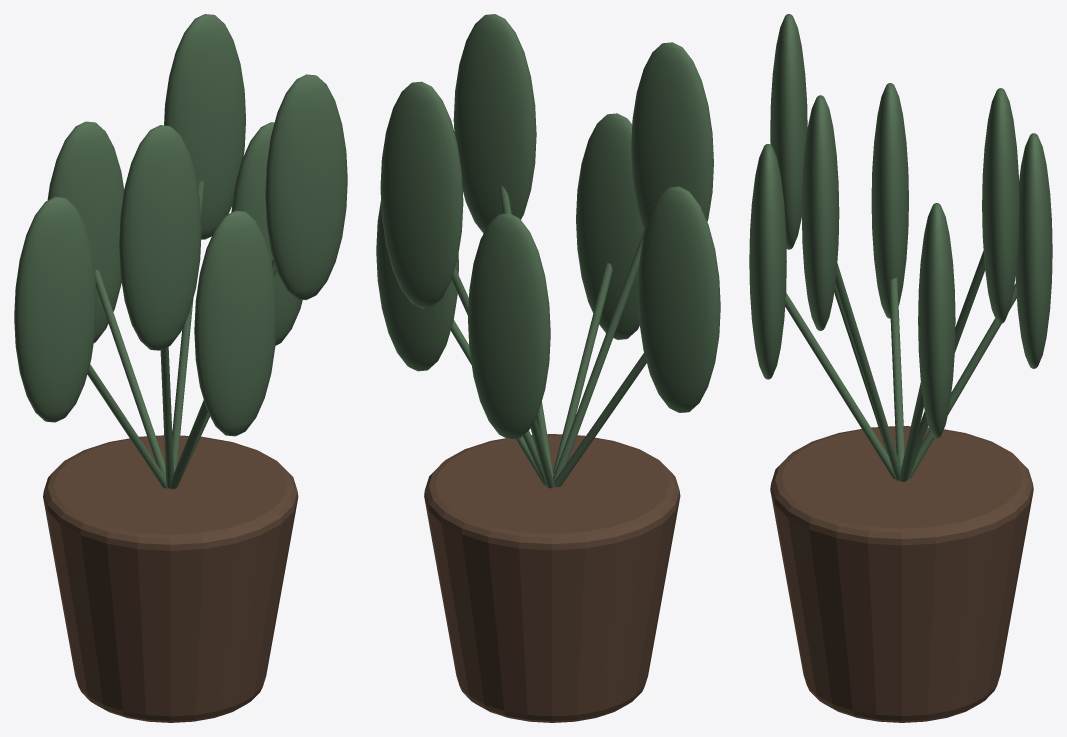
File: plant.fbx
The picture shows the model from 3 angles, left to right: view 1: azimuth 30°, elevation 25°; view 2: azimuth 150°, elevation 25°; view 3: azimuth 270°, elevation 25°; orthographic projection. The views are drawn at different scales.
Parts seen in each view (by area): view 1: plant; view 2: plant; view 3: plant.
Boxes of the visible parts, x1,y1,x2,y2 form: plant: (14,14,347,722); plant: (376,14,720,722); plant: (749,14,1052,722).
Size of the model in its own units: 70.97 by 132 by 56.62.
